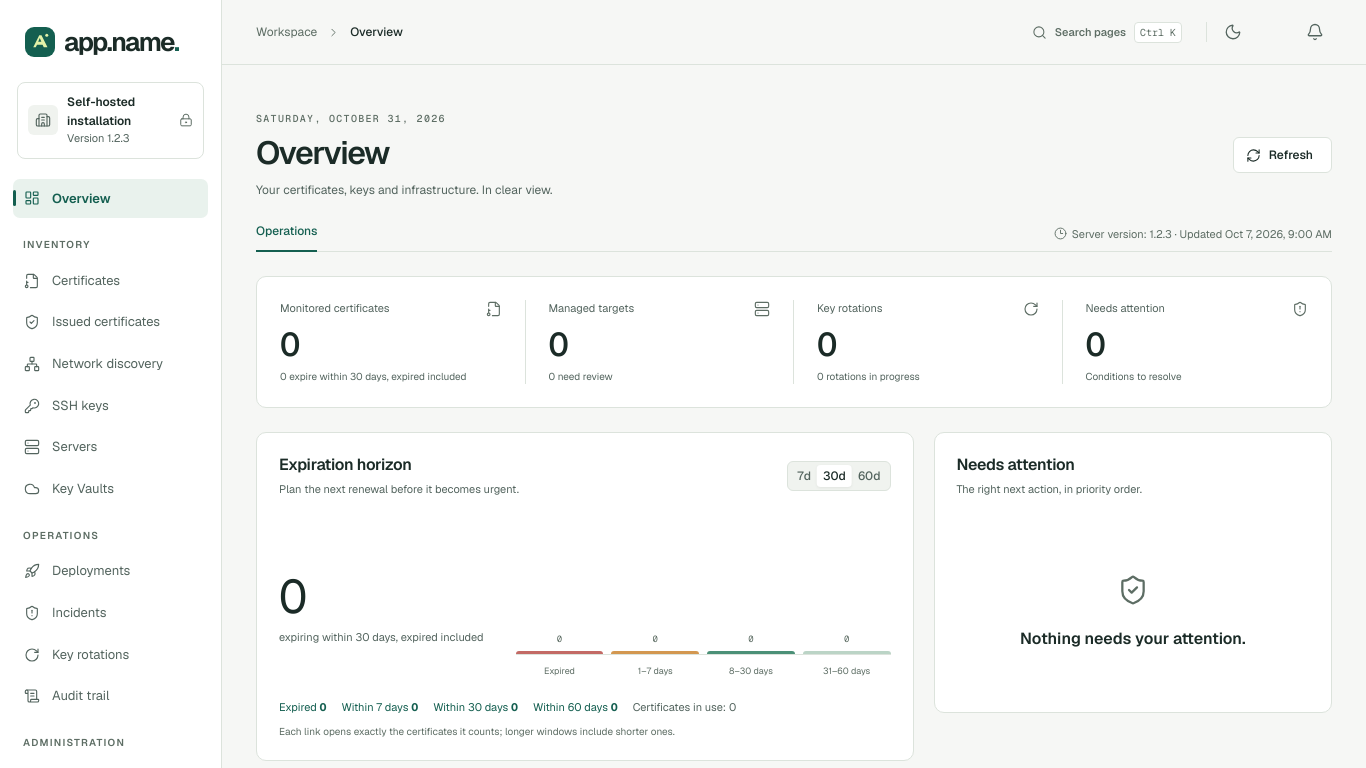
it: command palette › opens the first match with Enter
The width and height of the screenshot is (1366, 768).
Click the button "Search pages Ctrl K" at (1109, 32), box [1021,17,1197,47]
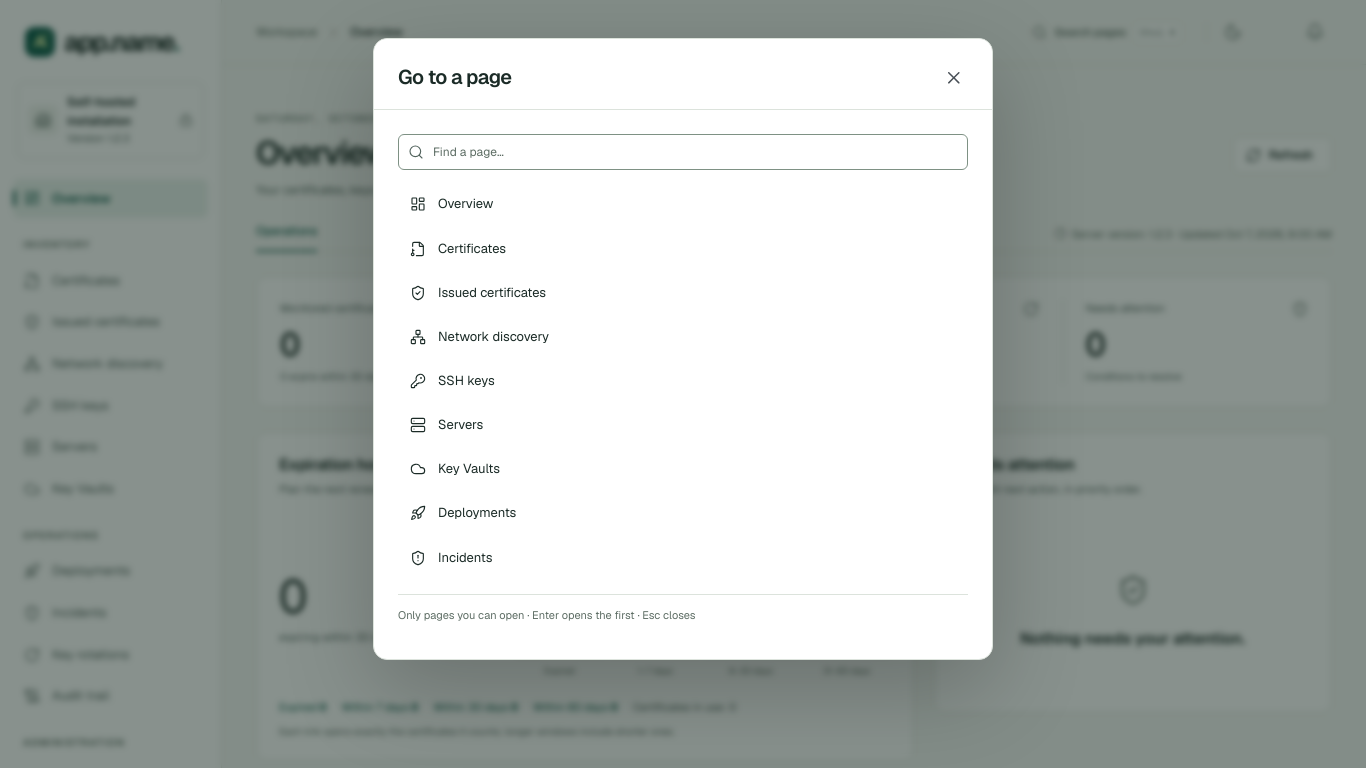
Type "audit" into the field labelled "Find a page…" at (683, 152), box [398,134,968,170]
Then press Enter
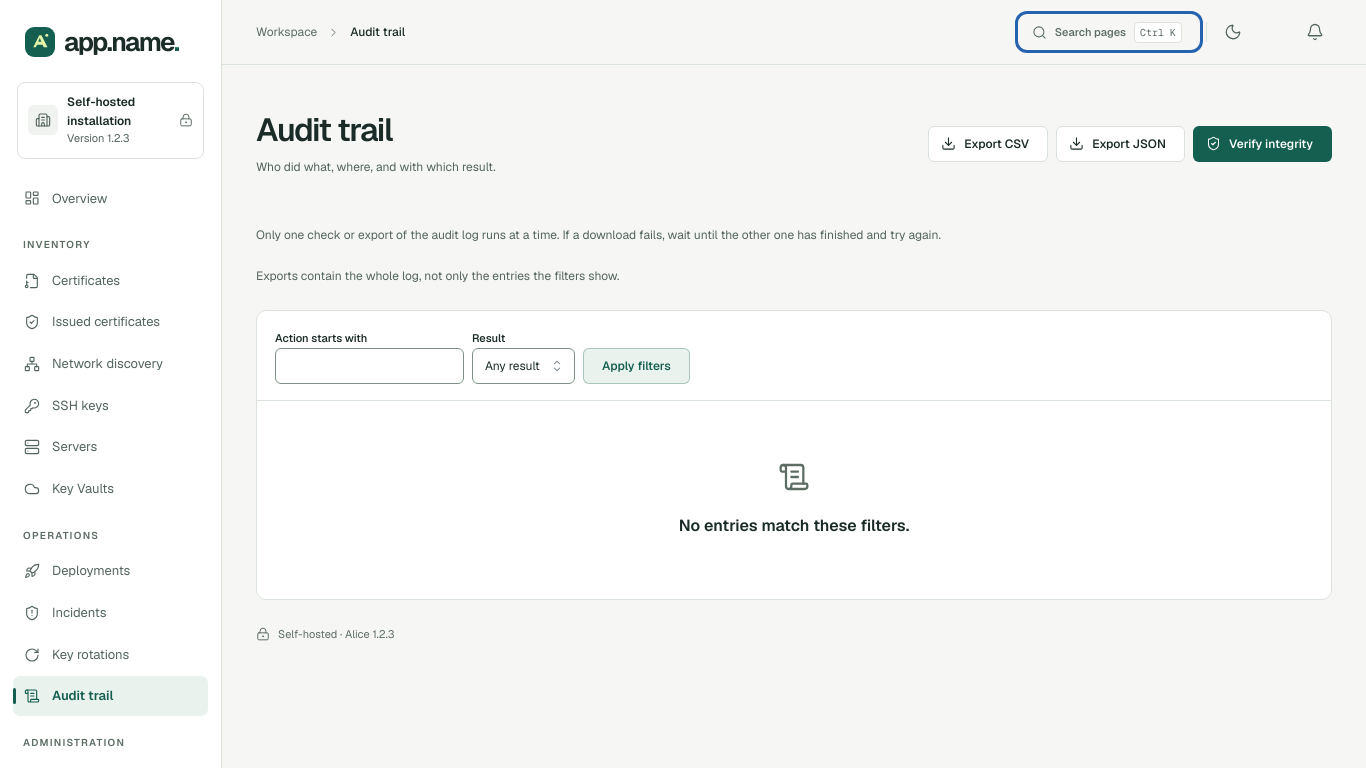
Now the heading "Go to a page" is gone
